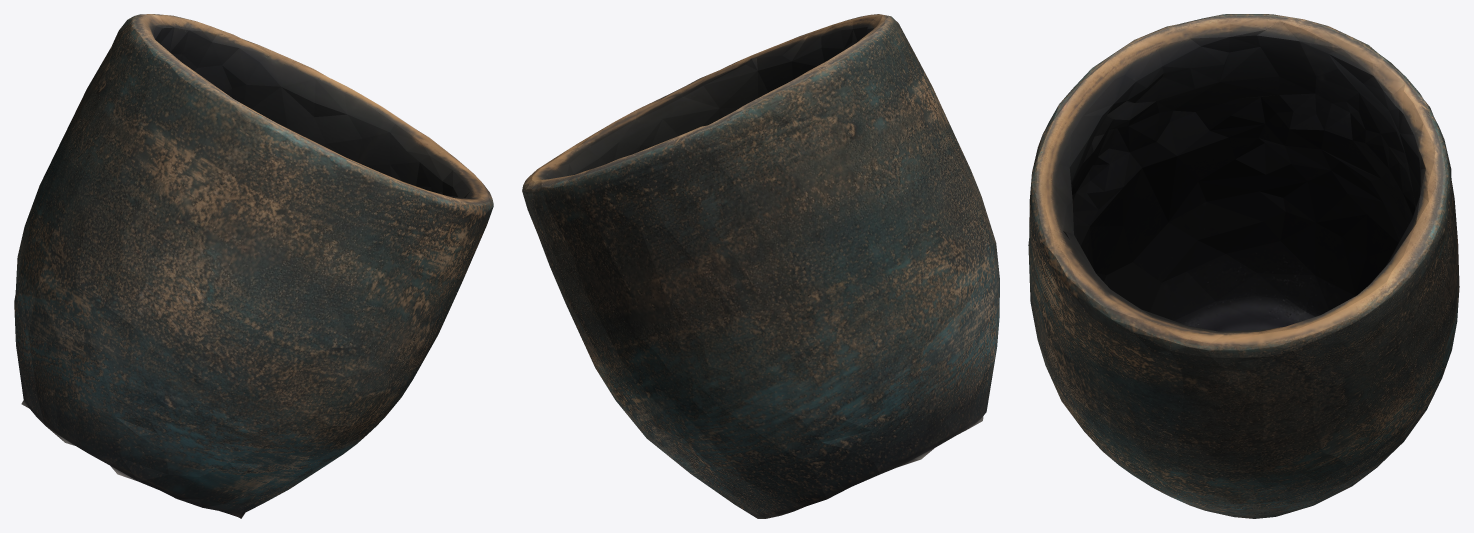
File: bowl.glb
The picture shows the model from 3 angles, left to right: view 1: azimuth 30°, elevation 25°; view 2: azimuth 150°, elevation 25°; view 3: azimuth 270°, elevation 25°; orthographic projection.
Bounding box in the file's own units: 0.1 × 0.1056 × 0.0882.
1 material, 1 textured.
